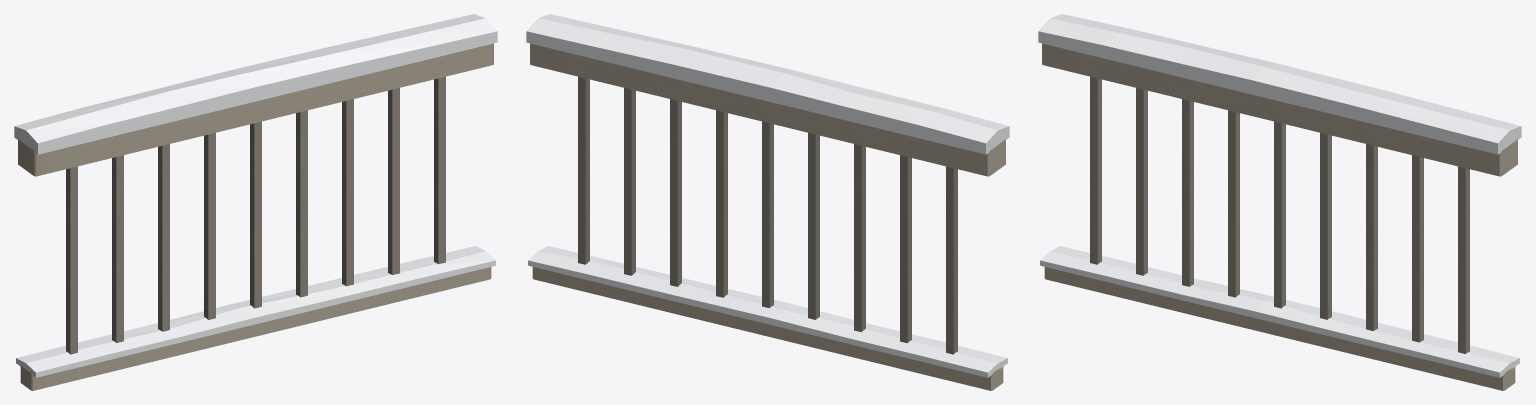
Rendered from railing_snow_straight.glb.
The picture shows the model from 3 angles, left to right: view 1: azimuth 30°, elevation 25°; view 2: azimuth 150°, elevation 25°; view 3: azimuth 330°, elevation 25°; orthographic projection.
Visible parts, largest first — view 1: canonical_base, snow_accumulation; view 2: canonical_base, snow_accumulation; view 3: canonical_base, snow_accumulation.
Part boxes in pixels (x1=…): canonical_base: x1=18, y1=43, x2=493, y2=390; snow_accumulation: x1=14, y1=14, x2=497, y2=377; canonical_base: x1=530, y1=43, x2=1005, y2=390; snow_accumulation: x1=526, y1=14, x2=1009, y2=377; canonical_base: x1=1042, y1=43, x2=1517, y2=390; snow_accumulation: x1=1038, y1=14, x2=1521, y2=377.
Size of the model in its own units: 1.8 by 0.976 by 0.16.
Materials: 3 (2 with a texture image).
